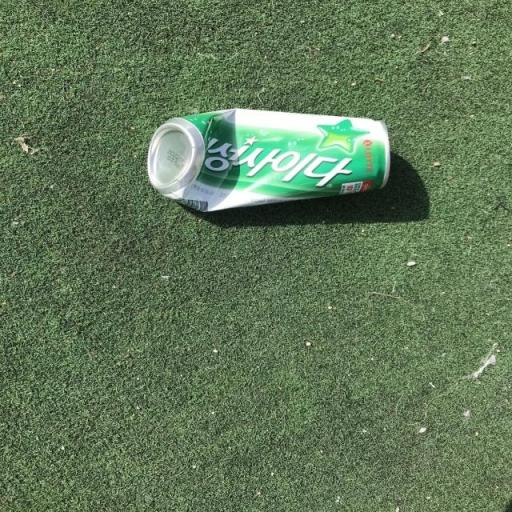metal: (106, 84, 411, 234)
